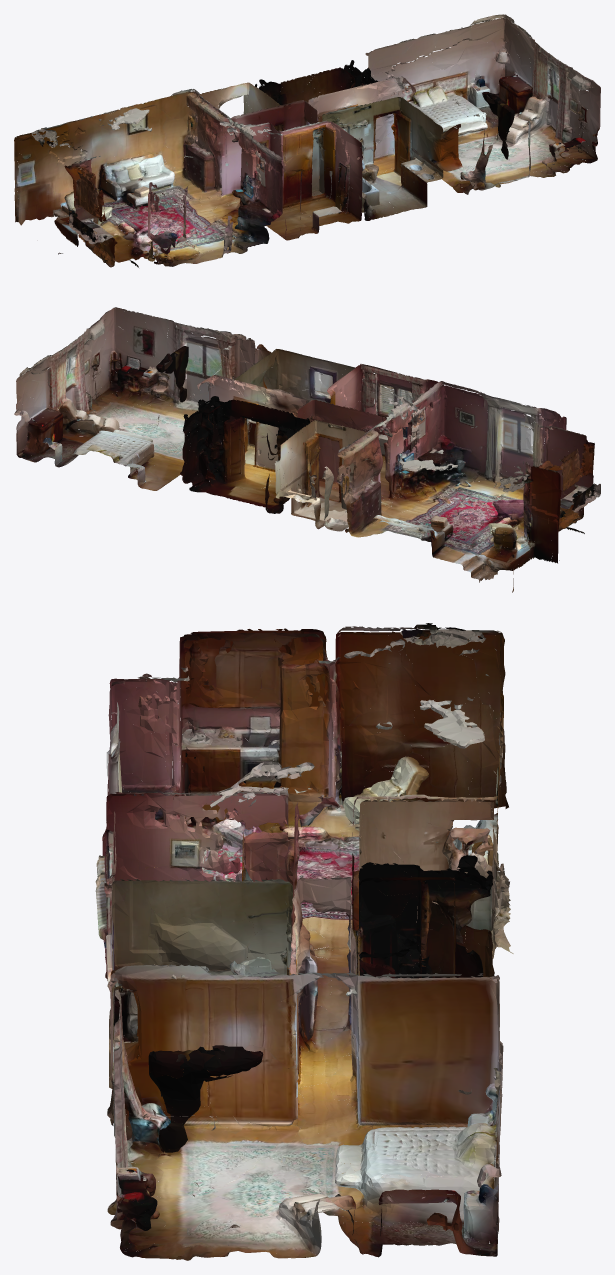
The model's file is esc_alta_muros_08.glb.
3 renders of one model, top to bottom at view 1: azimuth 30°, elevation 25°; view 2: azimuth 150°, elevation 25°; view 3: azimuth 270°, elevation 25°, orthographic. The views are drawn at different scales.
Visible parts, largest first — view 1: muros_Apartamento_y_bodega_8_GLTF_8, muros_Apartamento_y_bodega_8_GLTF_9, muros_Apartamento_y_bodega_8_GLTF_11, muros_Apartamento_y_bodega_8_GLTF_10, muros_Apartamento_y_bodega_8_GLTF_4, muros_Apartamento_y_bodega_8_GLTF_5, muros_Apartamento_y_bodega_8_GLTF_6, muros_Apartamento_y_bodega_8_GLTF_3, muros_Apartamento_y_bodega_8_GLTF_2, muros_Apartamento_y_bodega_8_GLTF_7, muros_Apartamento_y_bodega_8_GLTF, muros_Apartamento_y_bodega_8_GLTF_1; view 2: muros_Apartamento_y_bodega_8_GLTF_11, muros_Apartamento_y_bodega_8_GLTF_2, muros_Apartamento_y_bodega_8_GLTF_9, muros_Apartamento_y_bodega_8_GLTF_8, muros_Apartamento_y_bodega_8_GLTF_10, muros_Apartamento_y_bodega_8_GLTF_4, muros_Apartamento_y_bodega_8_GLTF, muros_Apartamento_y_bodega_8_GLTF_5, muros_Apartamento_y_bodega_8_GLTF_6, muros_Apartamento_y_bodega_8_GLTF_1, muros_Apartamento_y_bodega_8_GLTF_7, muros_Apartamento_y_bodega_8_GLTF_3; view 3: muros_Apartamento_y_bodega_8_GLTF_4, muros_Apartamento_y_bodega_8_GLTF_9, muros_Apartamento_y_bodega_8_GLTF_8, muros_Apartamento_y_bodega_8_GLTF_10, muros_Apartamento_y_bodega_8_GLTF_7, muros_Apartamento_y_bodega_8_GLTF_11, muros_Apartamento_y_bodega_8_GLTF_5, muros_Apartamento_y_bodega_8_GLTF_6, muros_Apartamento_y_bodega_8_GLTF_3, muros_Apartamento_y_bodega_8_GLTF_1, muros_Apartamento_y_bodega_8_GLTF, muros_Apartamento_y_bodega_8_GLTF_2.
Boxes of the visible parts, box(x1,y1,x2,y2) form: muros_Apartamento_y_bodega_8_GLTF_8: box(31, 34, 596, 261); muros_Apartamento_y_bodega_8_GLTF_9: box(20, 28, 584, 266); muros_Apartamento_y_bodega_8_GLTF_11: box(15, 19, 595, 266); muros_Apartamento_y_bodega_8_GLTF_10: box(14, 29, 589, 267); muros_Apartamento_y_bodega_8_GLTF_4: box(55, 41, 564, 253); muros_Apartamento_y_bodega_8_GLTF_5: box(14, 58, 600, 258); muros_Apartamento_y_bodega_8_GLTF_6: box(15, 14, 597, 264); muros_Apartamento_y_bodega_8_GLTF_3: box(14, 23, 577, 262); muros_Apartamento_y_bodega_8_GLTF_2: box(18, 80, 600, 267); muros_Apartamento_y_bodega_8_GLTF_7: box(14, 52, 598, 263); muros_Apartamento_y_bodega_8_GLTF: box(41, 60, 529, 265); muros_Apartamento_y_bodega_8_GLTF_1: box(37, 53, 555, 242); muros_Apartamento_y_bodega_8_GLTF_11: box(21, 311, 597, 592); muros_Apartamento_y_bodega_8_GLTF_2: box(68, 314, 582, 555); muros_Apartamento_y_bodega_8_GLTF_9: box(14, 309, 591, 579); muros_Apartamento_y_bodega_8_GLTF_8: box(16, 318, 594, 570); muros_Apartamento_y_bodega_8_GLTF_10: box(16, 338, 599, 574); muros_Apartamento_y_bodega_8_GLTF_4: box(37, 327, 582, 579); muros_Apartamento_y_bodega_8_GLTF: box(64, 346, 600, 532); muros_Apartamento_y_bodega_8_GLTF_5: box(66, 307, 584, 555); muros_Apartamento_y_bodega_8_GLTF_6: box(16, 362, 594, 561); muros_Apartamento_y_bodega_8_GLTF_1: box(76, 350, 594, 582); muros_Apartamento_y_bodega_8_GLTF_7: box(22, 323, 566, 561); muros_Apartamento_y_bodega_8_GLTF_3: box(14, 344, 600, 570); muros_Apartamento_y_bodega_8_GLTF_4: box(108, 648, 506, 1212); muros_Apartamento_y_bodega_8_GLTF_9: box(107, 627, 502, 1251); muros_Apartamento_y_bodega_8_GLTF_8: box(98, 629, 502, 1257); muros_Apartamento_y_bodega_8_GLTF_10: box(106, 641, 508, 1260); muros_Apartamento_y_bodega_8_GLTF_7: box(104, 633, 506, 1226); muros_Apartamento_y_bodega_8_GLTF_11: box(95, 625, 513, 1255); muros_Apartamento_y_bodega_8_GLTF_5: box(95, 654, 505, 1258); muros_Apartamento_y_bodega_8_GLTF_6: box(108, 632, 504, 1258); muros_Apartamento_y_bodega_8_GLTF_3: box(106, 628, 506, 1246); muros_Apartamento_y_bodega_8_GLTF_1: box(102, 623, 503, 1152); muros_Apartamento_y_bodega_8_GLTF: box(106, 624, 510, 1233); muros_Apartamento_y_bodega_8_GLTF_2: box(108, 653, 502, 1230).
Bounding box in the file's own units: 17.62 × 3.48 × 6.55.
12 materials, 12 textured.
